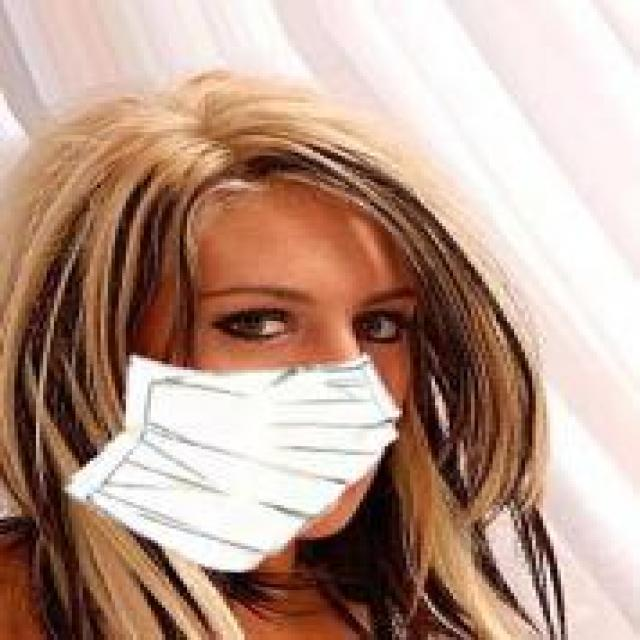mask: (86, 59, 482, 593)
